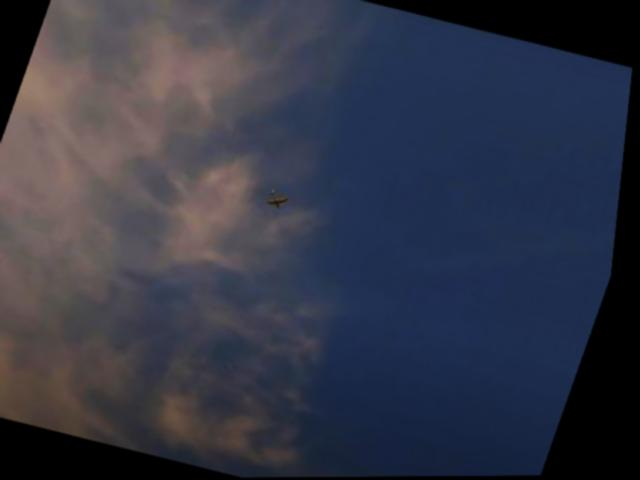iha: (265, 188, 297, 214)
